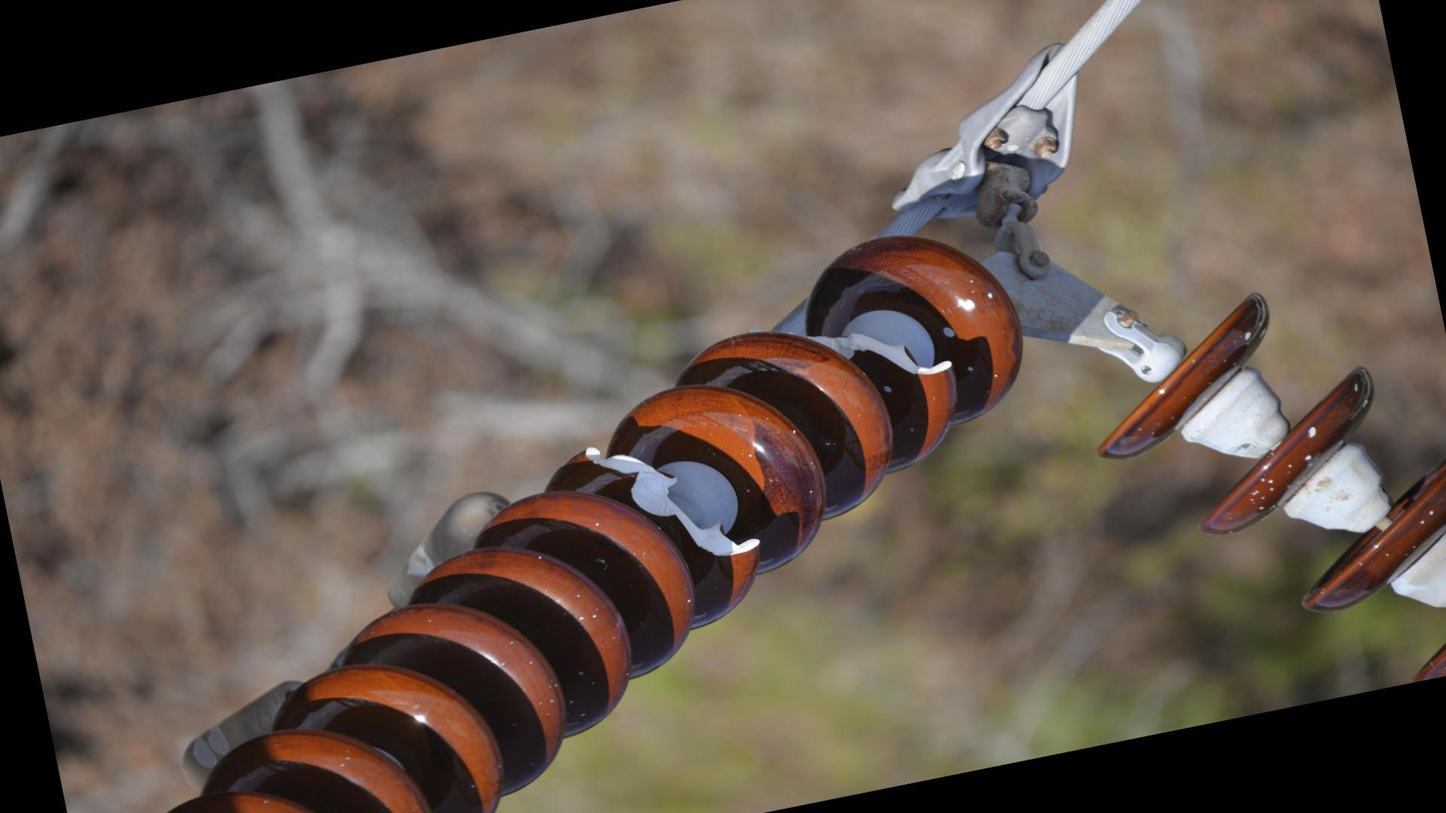damper: (127, 477, 563, 801)
